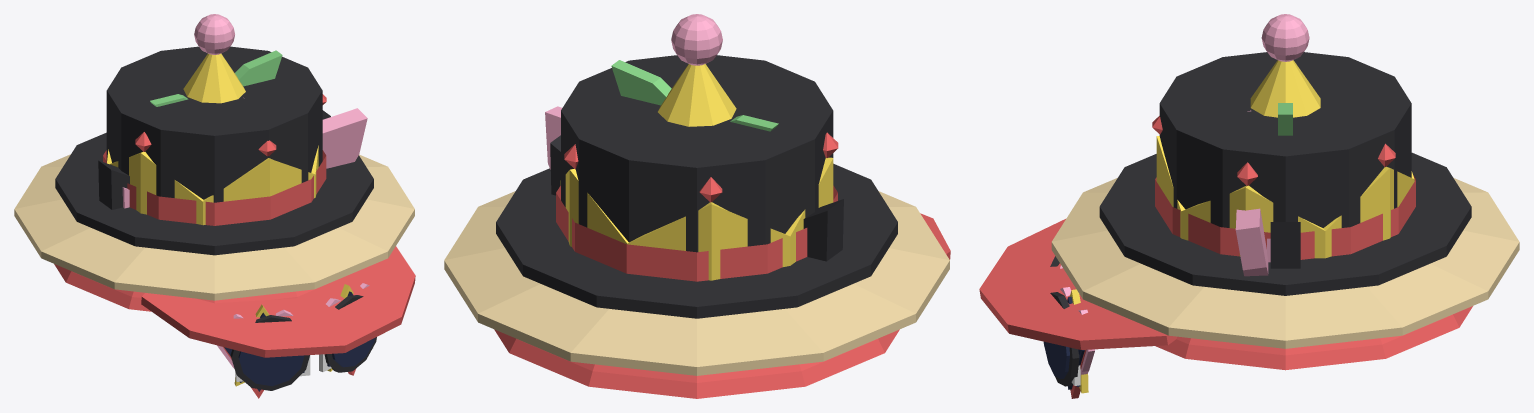
File: Kkultteok_Accessories.fbx
3 renders of one model, left to right at view 1: azimuth 30°, elevation 25°; view 2: azimuth 150°, elevation 25°; view 3: azimuth 270°, elevation 25°, orthographic. The views are drawn at different scales.
Parts seen in each view (by area): view 1: Acc_Hat_TopHat, Acc_Hat_Straw, Acc_Hat_Cap, Acc_Hat_Crown, Acc_Sunglasses_Circle, Acc_Hat_PartyCone, Acc_Deco_Ribbon, Acc_Deco_CatEars, Acc_Deco_Sprout, Acc_Sunglasses_Heart; view 2: Acc_Hat_TopHat, Acc_Hat_Straw, Acc_Hat_Cap, Acc_Hat_Crown, Acc_Hat_PartyCone, Acc_Deco_CatEars, Acc_Deco_Sprout, Acc_Deco_Ribbon; view 3: Acc_Hat_TopHat, Acc_Hat_Straw, Acc_Hat_Cap, Acc_Hat_Crown, Acc_Hat_PartyCone, Acc_Deco_Ribbon, Acc_Deco_CatEars, Acc_Sunglasses_Circle, Acc_Deco_Sprout.
Part boxes in pixels (x1=…): Acc_Hat_TopHat: x1=55, y1=46, x2=373, y2=255; Acc_Hat_Straw: x1=14, y1=154, x2=414, y2=300; Acc_Hat_Cap: x1=54, y1=246, x2=415, y2=357; Acc_Hat_Crown: x1=107, y1=94, x2=326, y2=225; Acc_Sunglasses_Circle: x1=230, y1=295, x2=376, y2=390; Acc_Hat_PartyCone: x1=183, y1=14, x2=245, y2=103; Acc_Deco_Ribbon: x1=243, y1=97, x2=367, y2=168; Acc_Deco_CatEars: x1=98, y1=110, x2=330, y2=209; Acc_Deco_Sprout: x1=150, y1=50, x2=282, y2=106; Acc_Sunglasses_Heart: x1=217, y1=283, x2=369, y2=368; Acc_Hat_TopHat: x1=496, y1=55, x2=897, y2=318; Acc_Hat_Straw: x1=444, y1=191, x2=949, y2=375; Acc_Hat_Cap: x1=494, y1=213, x2=950, y2=398; Acc_Hat_Crown: x1=560, y1=132, x2=838, y2=280; Acc_Hat_PartyCone: x1=658, y1=14, x2=736, y2=126; Acc_Deco_CatEars: x1=550, y1=135, x2=843, y2=261; Acc_Deco_Sprout: x1=611, y1=60, x2=778, y2=131; Acc_Deco_Ribbon: x1=545, y1=106, x2=561, y2=169; Acc_Hat_TopHat: x1=1099, y1=52, x2=1471, y2=295; Acc_Hat_Straw: x1=1051, y1=178, x2=1519, y2=348; Acc_Hat_Cap: x1=979, y1=219, x2=1472, y2=370; Acc_Hat_Crown: x1=1152, y1=116, x2=1414, y2=258; Acc_Hat_PartyCone: x1=1250, y1=14, x2=1320, y2=117; Acc_Deco_Ribbon: x1=1235, y1=110, x2=1268, y2=276; Acc_Deco_CatEars: x1=1267, y1=222, x2=1300, y2=268; Acc_Sunglasses_Circle: x1=1043, y1=256, x2=1079, y2=386; Acc_Deco_Sprout: x1=1278, y1=103, x2=1292, y2=135.
Bounding box in the file's own units: 1.56 × 1.31 × 1.8.
